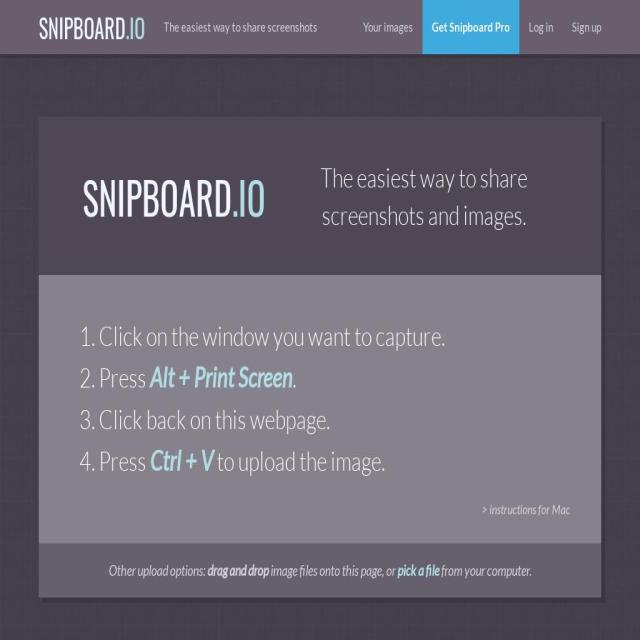button: (422, 0, 520, 54), (29, 0, 154, 42), (353, 0, 422, 54), (562, 0, 610, 54), (520, 0, 562, 54)
heading: (321, 161, 528, 231)
text: (80, 400, 560, 438), (80, 317, 560, 354), (82, 162, 232, 230), (213, 444, 385, 477), (150, 361, 292, 393), (164, 13, 318, 42), (38, 8, 125, 46), (79, 444, 150, 477), (268, 561, 398, 579), (232, 162, 266, 230), (79, 361, 150, 393), (150, 444, 213, 477), (108, 561, 208, 579), (439, 561, 532, 579), (482, 501, 552, 517), (207, 561, 269, 579), (397, 561, 439, 579), (126, 8, 145, 46), (552, 501, 570, 517), (292, 361, 296, 393)
